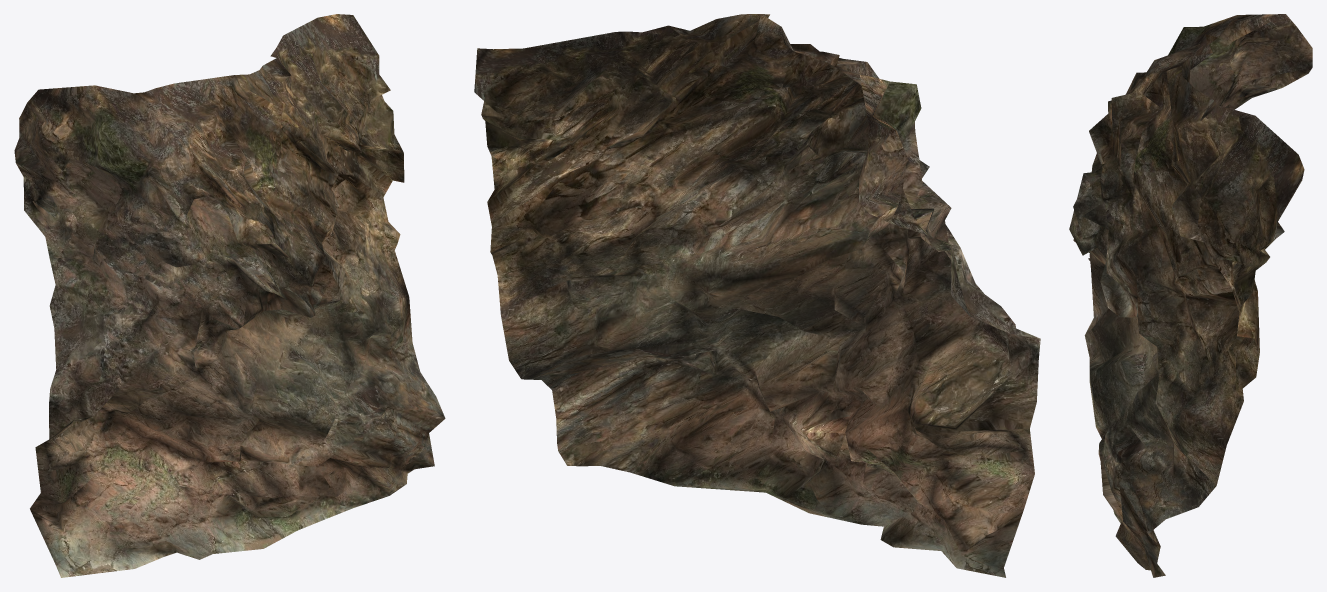
The model's file is mountainside-lod2.glb.
The picture shows the model from 3 angles, left to right: view 1: azimuth 30°, elevation 25°; view 2: azimuth 150°, elevation 25°; view 3: azimuth 270°, elevation 25°; orthographic projection. The views are drawn at different scales.
Parts seen in each view (by area): view 1: mountainside; view 2: mountainside; view 3: mountainside.
Part boxes in pixels (x1=…): mountainside: x1=14, y1=14, x2=445, y2=577; mountainside: x1=474, y1=14, x2=1040, y2=577; mountainside: x1=1069, y1=14, x2=1312, y2=577.
Bounding box in the file's own units: 10.16 × 10.52 × 5.24.
1 material, 1 textured.
